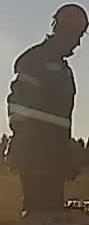gloves: (2, 132, 28, 171)
helmet: (51, 0, 89, 29)
vest: (7, 44, 77, 177)
